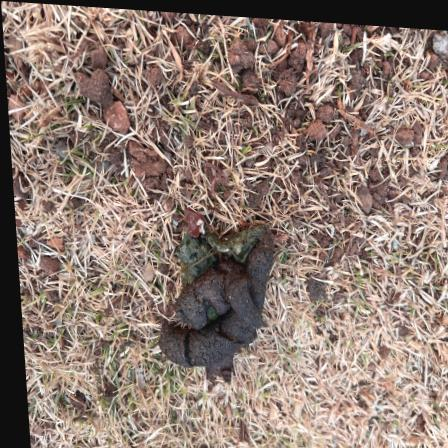dog-poop: (131, 210, 286, 389)
